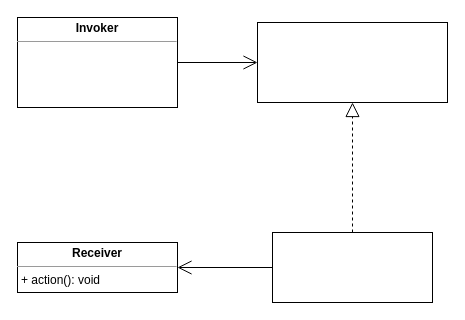
This 465x320 diagram has some shape labels left out. Here are the shapes that lost their labels. From the top down, the centre of each, then its label:
At (x=352, y=62): "<<Interface>> ICommand + execute(): void + unexecute(): void".
At (x=352, y=267): "Command + execute(): void + unexecute(): void".
